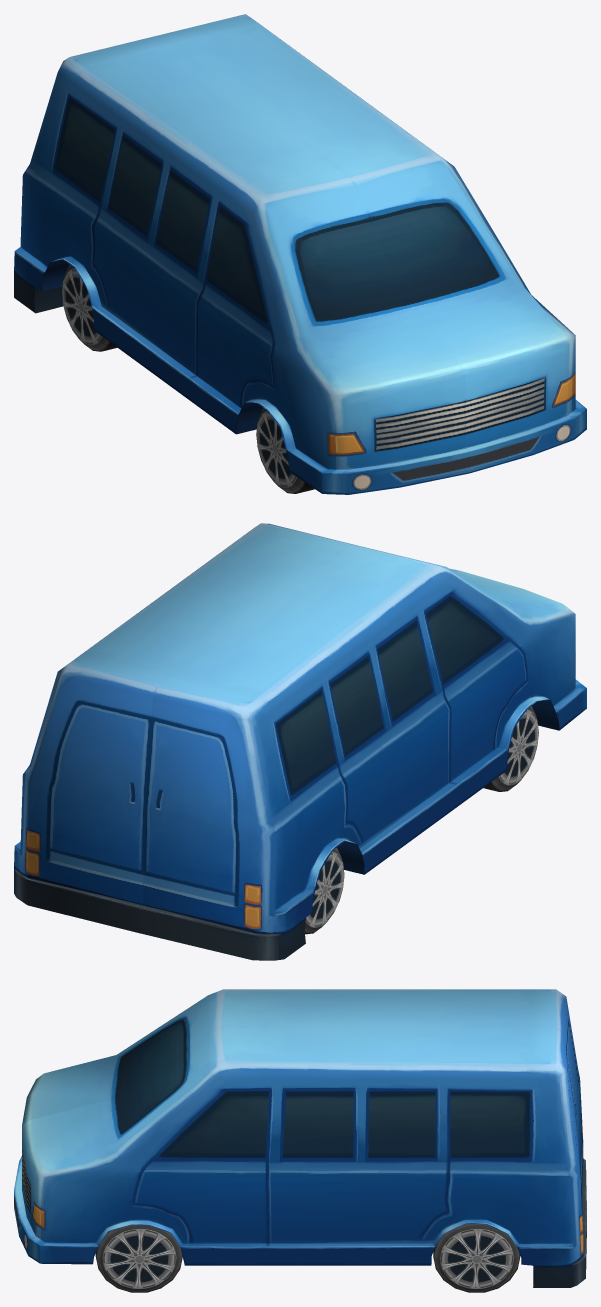
The model's file is model_Mcar7.FBX.
3 renders of one model, top to bottom at view 1: azimuth 30°, elevation 25°; view 2: azimuth 150°, elevation 25°; view 3: azimuth 270°, elevation 25°, orthographic. The views are drawn at different scales.
Visible parts, largest first — view 1: model_Mcar7; view 2: model_Mcar7; view 3: model_Mcar7.
Boxes of the visible parts, x1=… form: model_Mcar7: x1=14, y1=14, x2=586, y2=494; model_Mcar7: x1=14, y1=523, x2=586, y2=960; model_Mcar7: x1=14, y1=989, x2=586, y2=1292.
Size of the model in its own units: 116 by 103 by 245.
